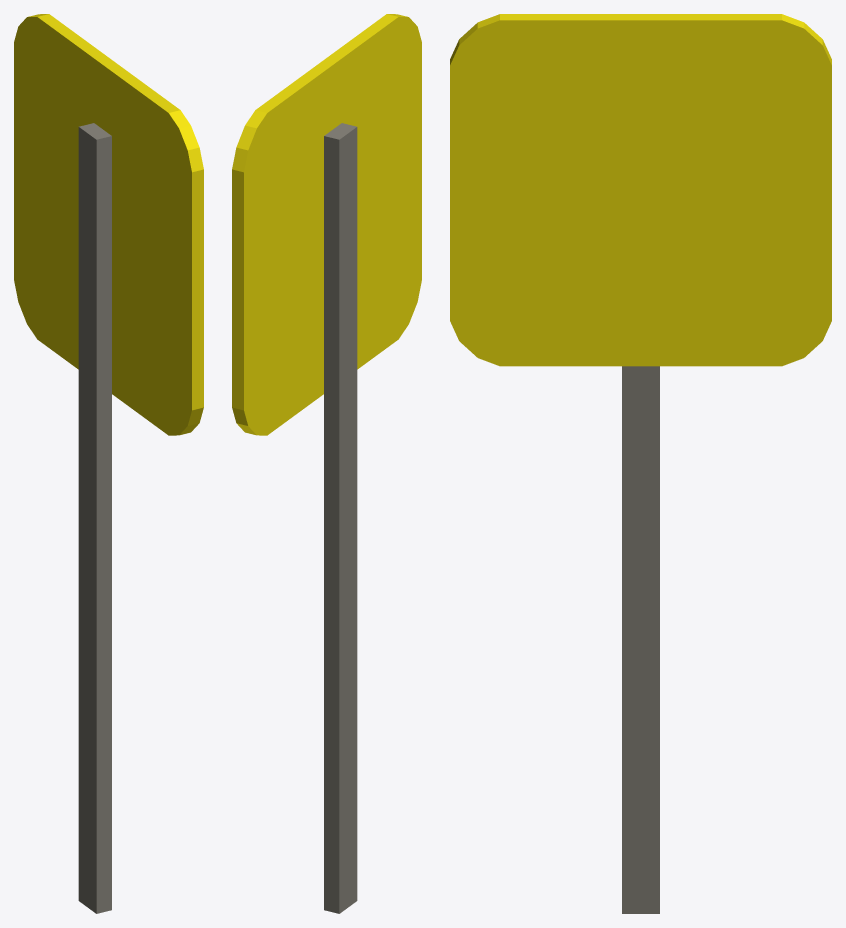
The model's file is Prop_Track_Sign_Blank.obj.
3 views of the same model, side by side, from view 1: azimuth 30°, elevation 25°; view 2: azimuth 150°, elevation 25°; view 3: azimuth 270°, elevation 25° (orthographic). The views are drawn at different scales.
Parts seen in each view (by area): view 1: Sign_Yellow, Sign_Post; view 2: Sign_Yellow, Sign_Post; view 3: Sign_Yellow_Decal, Sign_Post, Sign_Yellow.
Boxes of the visible parts, x1,y1,x2,y2 form: Sign_Yellow: [14, 14, 203, 435]; Sign_Post: [78, 123, 111, 913]; Sign_Yellow: [232, 14, 421, 435]; Sign_Post: [324, 123, 357, 913]; Sign_Yellow_Decal: [450, 20, 831, 366]; Sign_Post: [622, 366, 659, 913]; Sign_Yellow: [450, 14, 831, 64].
Bounding box in the file's own units: 0.0458 × 1.34 × 0.5161.
